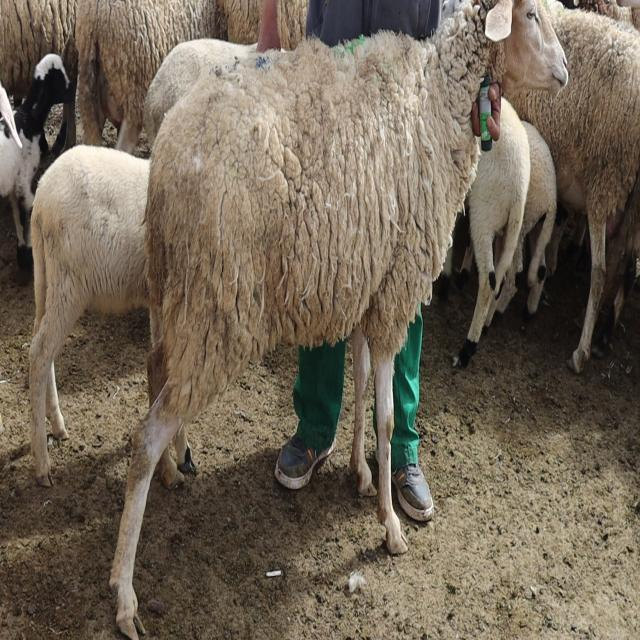Score_3: (110, 0, 568, 638)
